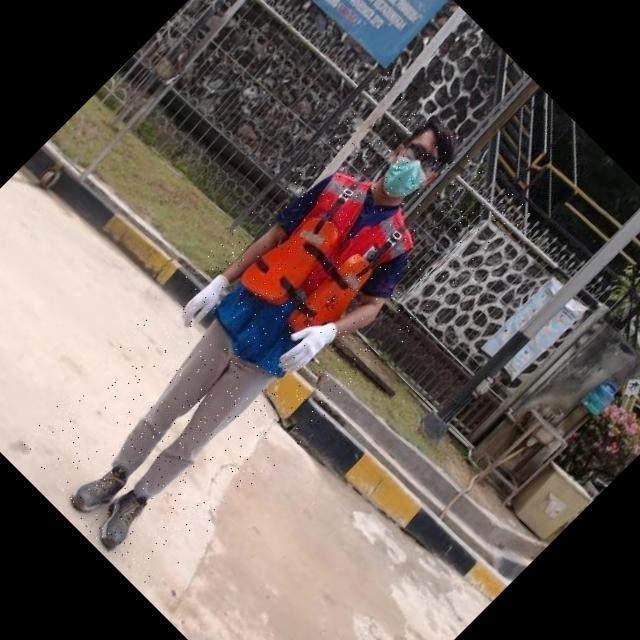safety_vest: (198, 155, 430, 388)
vehicle: (10, 68, 533, 591)
work_boots: (83, 478, 163, 558), (61, 452, 136, 526)
